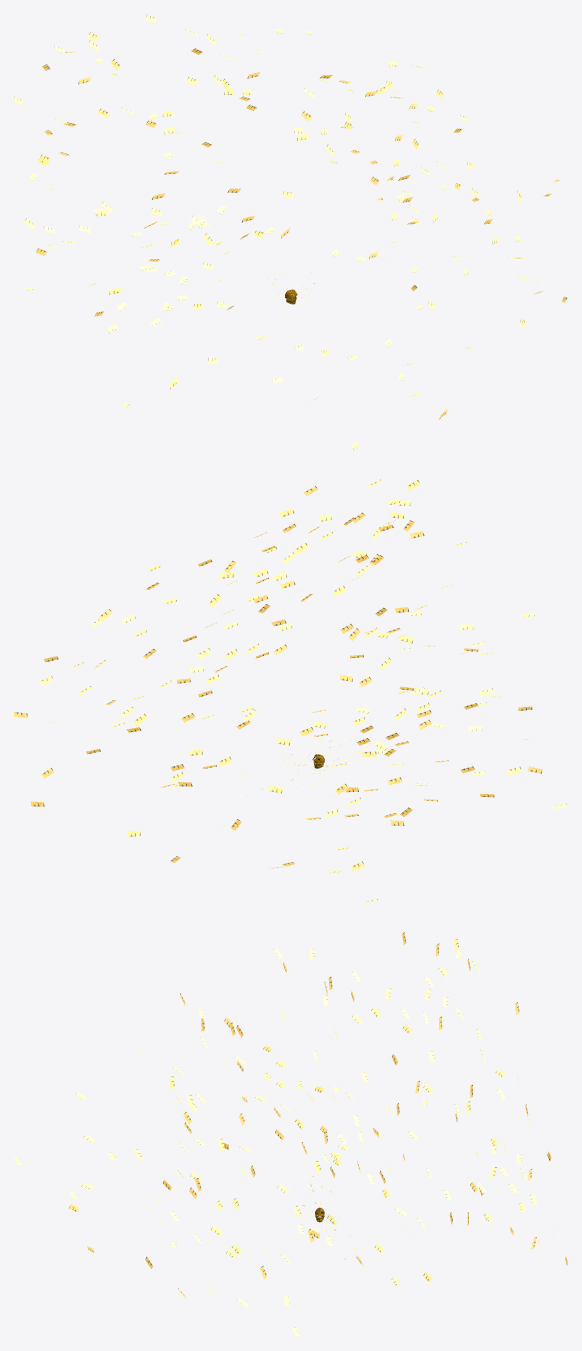
File: Fireman Helmet.fbx
3 renders of one model, top to bottom at view 1: azimuth 30°, elevation 25°; view 2: azimuth 150°, elevation 25°; view 3: azimuth 270°, elevation 25°, orthographic. The views are drawn at different scales.
Parts seen in each view (by area): view 1: Plane.003; view 2: Plane.003; view 3: Plane.003.
Part boxes in pixels (x1,y1,x2,y2): Plane.003: (14, 14, 567, 450); Plane.003: (14, 479, 567, 903); Plane.003: (14, 932, 567, 1336).
Size of the model in its own units: 1070 by 694 by 1247.
Materials: 5 (3 with a texture image).
